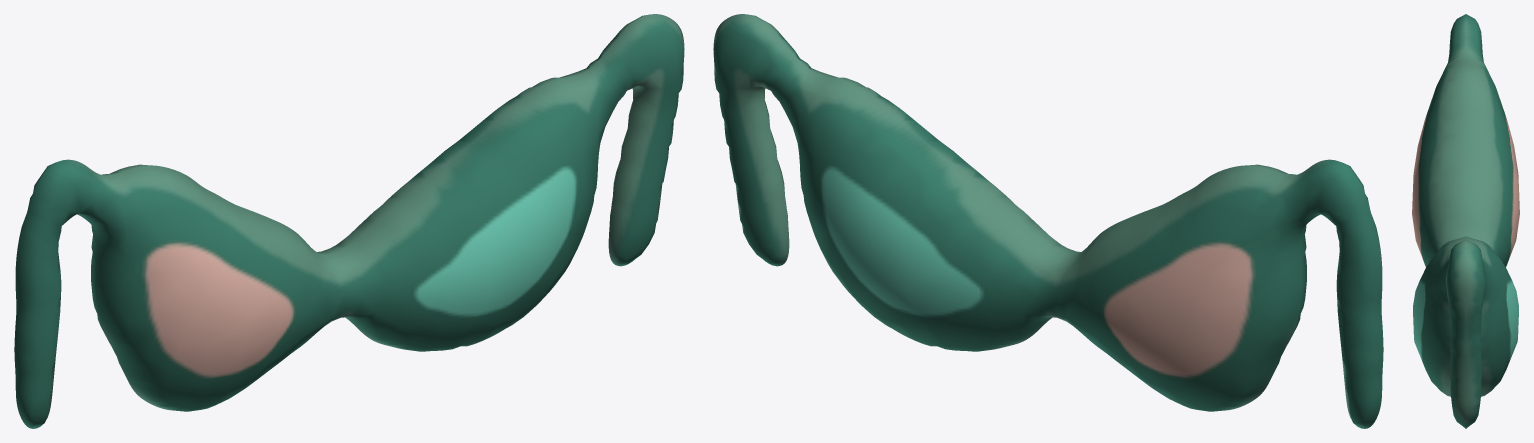
Rendered from green.glb.
3 views of the same model, side by side, from view 1: azimuth 30°, elevation 25°; view 2: azimuth 150°, elevation 25°; view 3: azimuth 270°, elevation 25° (orthographic). The views are drawn at different scales.
Visible parts, largest first — view 1: Mesh_0.013; view 2: Mesh_0.013; view 3: Mesh_0.013.
Boxes of the visible parts, bbox=[...] form: Mesh_0.013: bbox=[14, 14, 684, 428]; Mesh_0.013: bbox=[713, 14, 1383, 428]; Mesh_0.013: bbox=[1412, 14, 1519, 428].
Size of the model in its own units: 365 by 147 by 63.95.
1 material, 1 textured.
